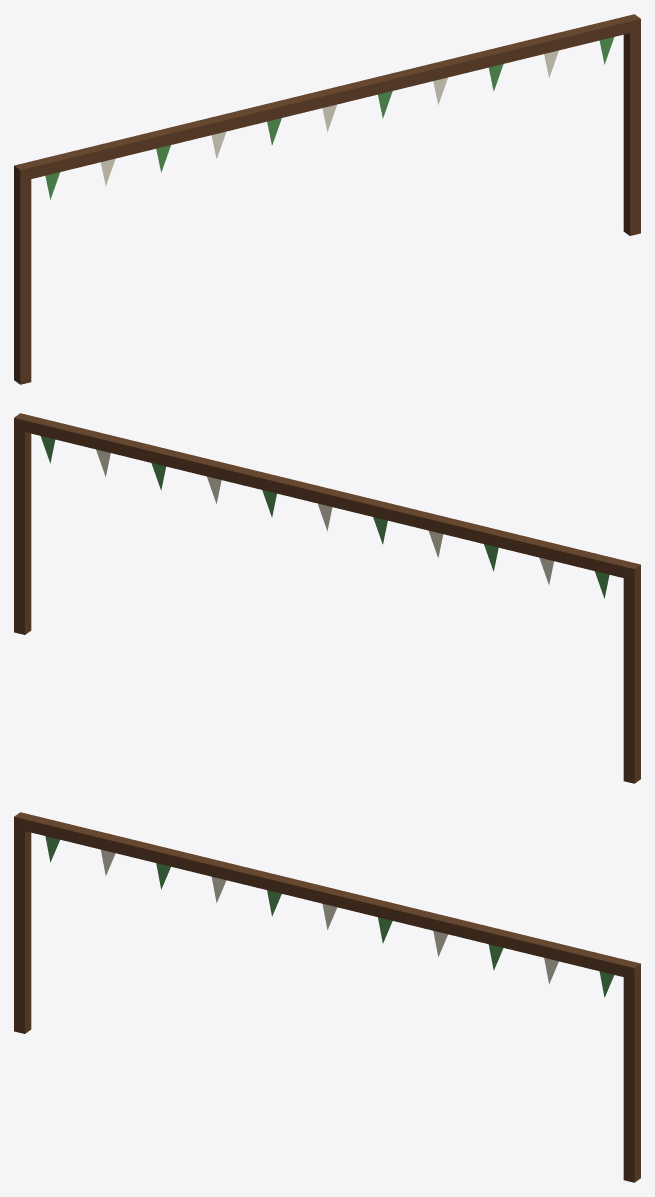
Rendered from checkpoint-gate.glb.
3 views of the same model, one above another, from view 1: azimuth 30°, elevation 25°; view 2: azimuth 150°, elevation 25°; view 3: azimuth 330°, elevation 25° (orthographic).
Parts seen in each view (by area): view 1: checkpoint; view 2: checkpoint; view 3: checkpoint.
Boxes of the visible parts, x1,y1,x2,y2 form: checkpoint: (14,14,640,384); checkpoint: (14,413,640,783); checkpoint: (14,812,640,1182).
Bounding box in the file's own units: 11.2 × 3.7 × 0.1992.
